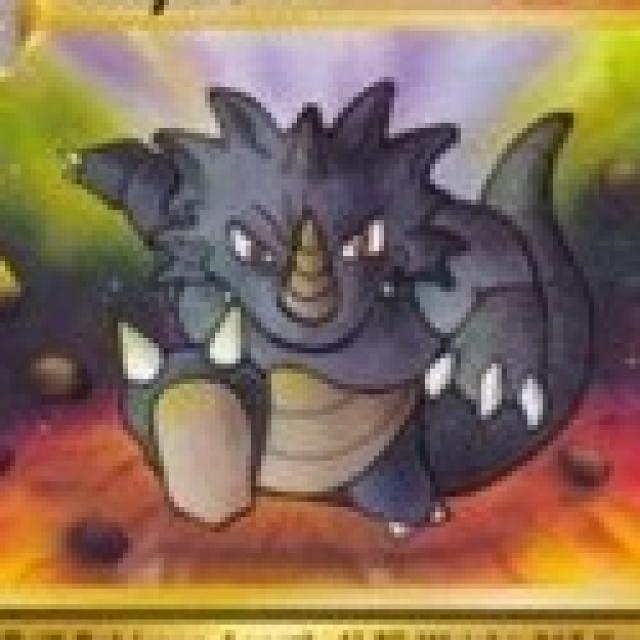Rhydon: (114, 80, 545, 527)
